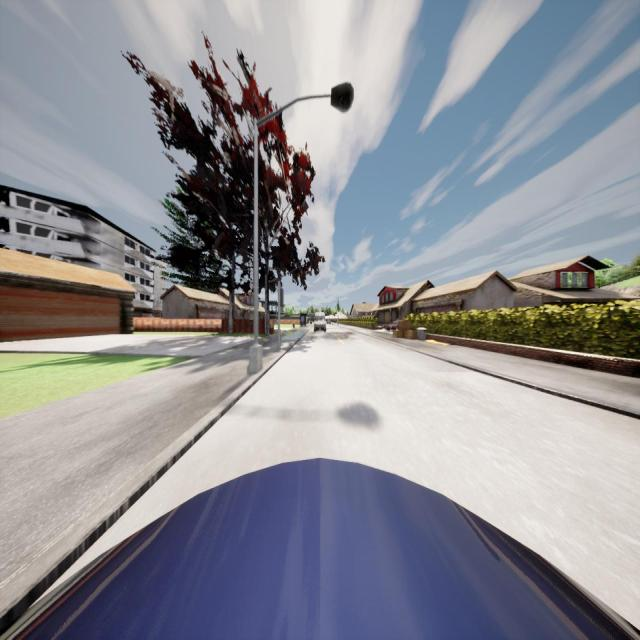Vehicle: (0, 456, 639, 640), (314, 312, 326, 332), (383, 320, 398, 330), (327, 319, 331, 324)
traffic_light: (280, 289, 284, 306)
